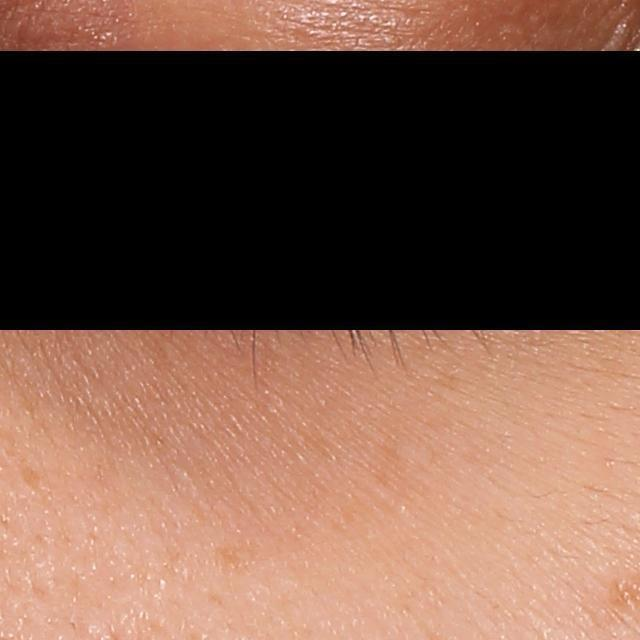melasma: (212, 538, 266, 581)
